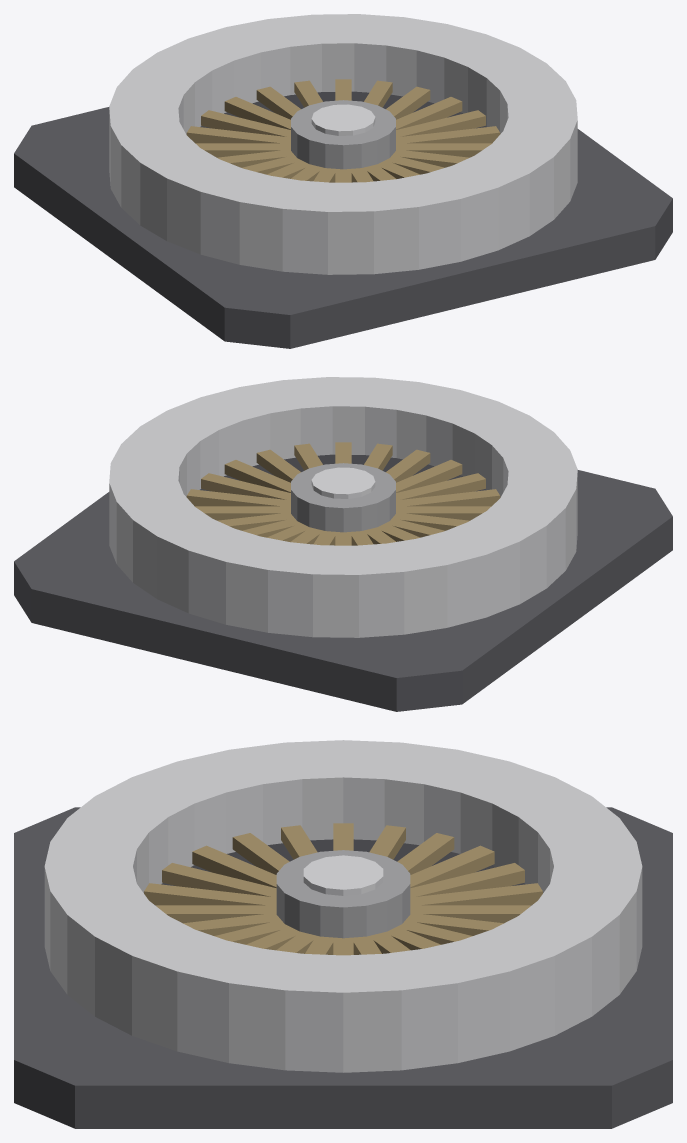
File: vge_gravlift.obj
3 renders of one model, top to bottom at view 1: azimuth 30°, elevation 25°; view 2: azimuth 150°, elevation 25°; view 3: azimuth 270°, elevation 25°, orthographic. The views are drawn at different scales.
Visible parts, largest first — view 1: vge_gravlift_1, vge_gravlift_0, vge_gravlift_27, vge_gravlift_28, vge_gravlift_26, vge_gravlift_12, vge_gravlift_11, vge_gravlift_3, vge_gravlift_4, vge_gravlift_10, vge_gravlift_25, vge_gravlift_13 (+9 smaller); view 2: vge_gravlift_1, vge_gravlift_0, vge_gravlift_27, vge_gravlift_28, vge_gravlift_4, vge_gravlift_18, vge_gravlift_19, vge_gravlift_3, vge_gravlift_20, vge_gravlift_26, vge_gravlift_5, vge_gravlift_17 (+9 smaller); view 3: vge_gravlift_1, vge_gravlift_0, vge_gravlift_27, vge_gravlift_28, vge_gravlift_10, vge_gravlift_20, vge_gravlift_11, vge_gravlift_19, vge_gravlift_12, vge_gravlift_18, vge_gravlift_9, vge_gravlift_21 (+12 smaller).
Boxes of the visible parts, <box> form: vge_gravlift_1: <box>109,14,577,274</box>; vge_gravlift_0: <box>14,107,672,348</box>; vge_gravlift_27: <box>291,100,395,169</box>; vge_gravlift_28: <box>311,104,375,135</box>; vge_gravlift_26: <box>396,126,500,144</box>; vge_gravlift_12: <box>186,126,290,144</box>; vge_gravlift_11: <box>201,110,290,137</box>; vge_gravlift_3: <box>396,110,485,137</box>; vge_gravlift_4: <box>396,97,462,129</box>; vge_gravlift_10: <box>224,97,290,129</box>; vge_gravlift_25: <box>396,143,491,157</box>; vge_gravlift_13: <box>195,143,290,157</box>; vge_gravlift_1: <box>109,377,577,637</box>; vge_gravlift_0: <box>14,470,672,711</box>; vge_gravlift_27: <box>291,463,395,532</box>; vge_gravlift_28: <box>311,467,375,498</box>; vge_gravlift_4: <box>186,489,290,507</box>; vge_gravlift_18: <box>396,489,500,507</box>; vge_gravlift_19: <box>396,473,485,500</box>; vge_gravlift_3: <box>201,473,290,500</box>; vge_gravlift_20: <box>396,460,462,492</box>; vge_gravlift_26: <box>224,460,290,492</box>; vge_gravlift_5: <box>195,506,290,520</box>; vge_gravlift_17: <box>396,506,491,520</box>; vge_gravlift_1: <box>44,740,642,1072</box>; vge_gravlift_0: <box>14,807,672,1128</box>; vge_gravlift_27: <box>276,850,410,938</box>; vge_gravlift_28: <box>303,855,383,895</box>; vge_gravlift_10: <box>410,883,542,906</box>; vge_gravlift_20: <box>144,883,276,906</box>; vge_gravlift_11: <box>410,863,524,897</box>; vge_gravlift_19: <box>162,863,276,897</box>; vge_gravlift_12: <box>410,845,494,887</box>; vge_gravlift_18: <box>192,845,276,887</box>; vge_gravlift_9: <box>410,905,531,923</box>; vge_gravlift_21: <box>155,905,276,923</box>.
Bounding box in the file's own units: 1.94 × 0.4 × 1.94.
